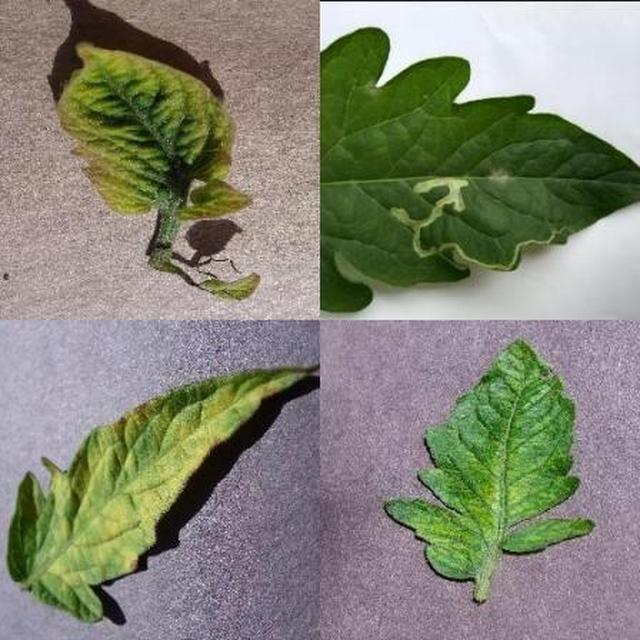Yellow Leaf Curl Virus: (222, 186, 640, 640)
